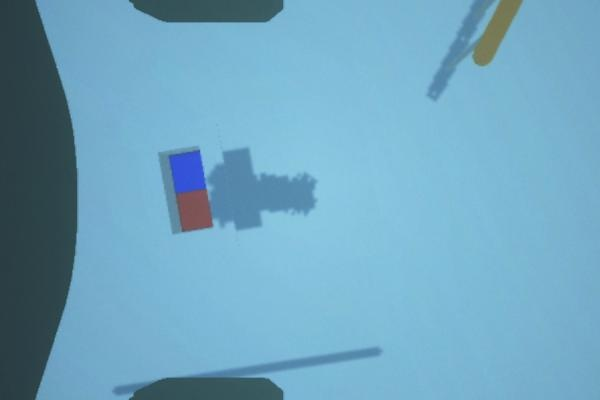bin: (140, 120, 238, 256)
bin_bleue: (170, 150, 206, 192)
bin_rouge: (175, 188, 213, 232)
path: (473, 0, 523, 66)
